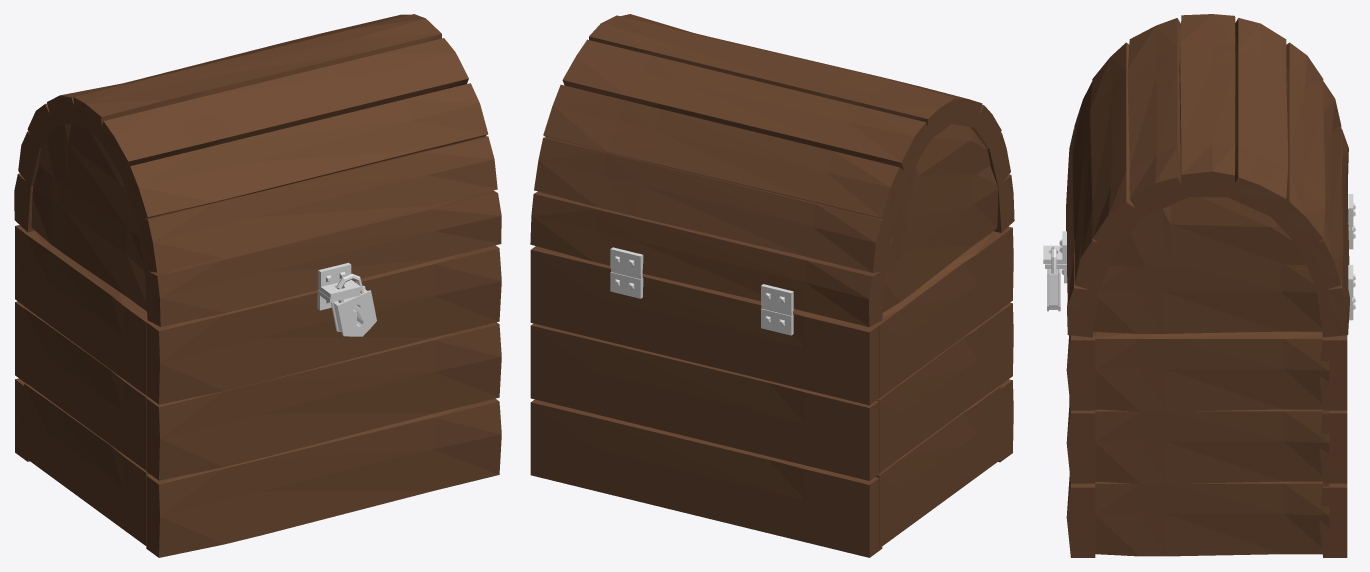
The model's file is Schatztruhe ohne.fbx.
The picture shows the model from 3 angles, left to right: view 1: azimuth 30°, elevation 25°; view 2: azimuth 150°, elevation 25°; view 3: azimuth 270°, elevation 25°; orthographic projection. The views are drawn at different scales.
Parts seen in each view (by area): view 1: Holzi_2_2, Holzi_1_2, Holzi_2_3, Holzi_2, Holzi_1, Holzi, Holzi_3, Holzi_4, Holzi_6_2, Holzi_8_2, Holzi_7_2, Holzi_12 (+10 smaller); view 2: Holzi_11_2, Holzi_10_2, Holzi_9_2, Holzi_7, Holzi_6, Holzi_5, Holzi_8, Holzi_4, Holzi_6_2, Holzi_8_2, Holzi_7_2, Holzi_12 (+12 smaller); view 3: Holzi_3_2, Holzi_5_2, Holzi_4_2, Holzi_10, Holzi_4, Holzi_9, Holzi_8, Holzi_3, Holzi_7, Holzi_2, Holzi_6, Holzi_1 (+10 smaller).
Part boxes in pixels (x1=…): Holzi_2_2: x1=146, y1=398, x2=501, y2=557; Holzi_1_2: x1=146, y1=322, x2=501, y2=480; Holzi_2_3: x1=146, y1=245, x2=501, y2=404; Holzi_2: x1=120, y1=83, x2=488, y2=222; Holzi_1: x1=135, y1=136, x2=497, y2=272; Holzi: x1=144, y1=190, x2=501, y2=326; Holzi_3: x1=97, y1=38, x2=468, y2=176; Holzi_4: x1=73, y1=14, x2=441, y2=139; Holzi_6_2: x1=24, y1=232, x2=148, y2=394; Holzi_8_2: x1=24, y1=383, x2=149, y2=545; Holzi_7_2: x1=24, y1=308, x2=148, y2=470; Holzi_12: x1=31, y1=165, x2=146, y2=311; Holzi_11_2: x1=530, y1=399, x2=882, y2=557; Holzi_10_2: x1=530, y1=323, x2=882, y2=480; Holzi_9_2: x1=530, y1=246, x2=881, y2=405; Holzi_7: x1=543, y1=84, x2=909, y2=224; Holzi_6: x1=534, y1=137, x2=894, y2=272; Holzi_5: x1=530, y1=191, x2=885, y2=327; Holzi_8: x1=562, y1=39, x2=931, y2=176; Holzi_4: x1=589, y1=15, x2=955, y2=139; Holzi_6_2: x1=879, y1=234, x2=1000, y2=398; Holzi_8_2: x1=875, y1=386, x2=1000, y2=548; Holzi_7_2: x1=876, y1=311, x2=1000, y2=473; Holzi_12: x1=882, y1=165, x2=998, y2=312; Holzi_3_2: x1=1095, y1=331, x2=1329, y2=411; Holzi_5_2: x1=1095, y1=481, x2=1329, y2=556; Holzi_4_2: x1=1095, y1=409, x2=1329, y2=483; Holzi_10: x1=1093, y1=265, x2=1322, y2=333; Holzi_4: x1=1179, y1=14, x2=1235, y2=197; Holzi_9: x1=1109, y1=197, x2=1306, y2=266; Holzi_8: x1=1227, y1=18, x2=1287, y2=218; Holzi_3: x1=1127, y1=18, x2=1188, y2=218; Holzi_7: x1=1271, y1=42, x2=1325, y2=252; Holzi_2: x1=1090, y1=42, x2=1145, y2=251; Holzi_6: x1=1300, y1=81, x2=1343, y2=292; Holzi_1: x1=1072, y1=81, x2=1115, y2=292.
Bounding box in the file's own units: 207 × 235 × 171.
